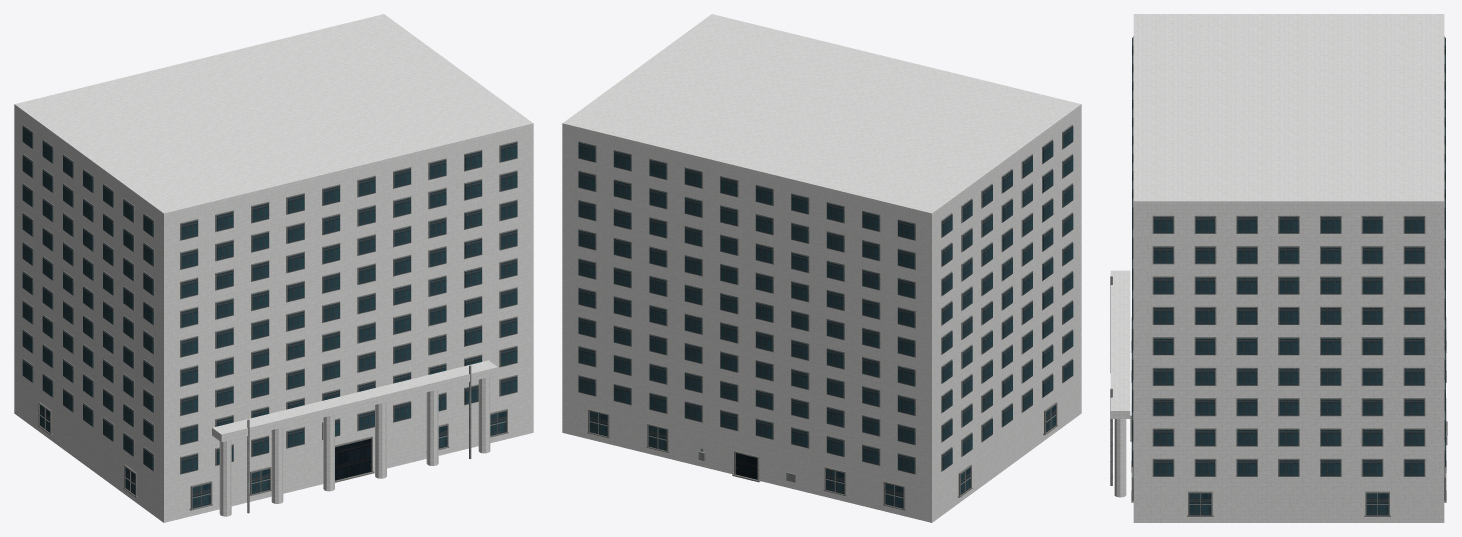
File: civic-office-annex_lod0.gltf
3 renders of one model, left to right at view 1: azimuth 30°, elevation 25°; view 2: azimuth 150°, elevation 25°; view 3: azimuth 270°, elevation 25°, orthographic. The views are drawn at different scales.
Visible parts, largest first — view 1: civic-office-annex_main, civic-office-annex_fen_07-glass-curtain-blue_1, civic-office-annex_fen_06-granite_0, civic-office-annex_colonnade, civic-office-annex_fen_07-glass-curtain-blue_2_t; view 2: civic-office-annex_main, civic-office-annex_fen_07-glass-curtain-blue_1, civic-office-annex_fen_06-granite_0; view 3: civic-office-annex_main, civic-office-annex_fen_07-glass-curtain-blue_1, civic-office-annex_fen_06-granite_0, civic-office-annex_colonnade.
Boxes of the visible parts, x1,y1,x2,y2 form: civic-office-annex_main: [14, 14, 533, 522]; civic-office-annex_fen_07-glass-curtain-blue_1: [22, 126, 517, 508]; civic-office-annex_fen_06-granite_0: [23, 124, 517, 510]; civic-office-annex_colonnade: [212, 360, 497, 516]; civic-office-annex_fen_07-glass-curtain-blue_2_t: [335, 438, 371, 480]; civic-office-annex_main: [562, 14, 1081, 522]; civic-office-annex_fen_07-glass-curtain-blue_1: [578, 126, 1073, 508]; civic-office-annex_fen_06-granite_0: [578, 124, 1072, 510]; civic-office-annex_main: [1133, 14, 1444, 522]; civic-office-annex_fen_07-glass-curtain-blue_1: [1132, 37, 1445, 515]; civic-office-annex_fen_06-granite_0: [1130, 36, 1447, 516]; civic-office-annex_colonnade: [1110, 270, 1130, 497].
Bounding box in the file's own units: 50.55 × 40.02 × 38.05.
